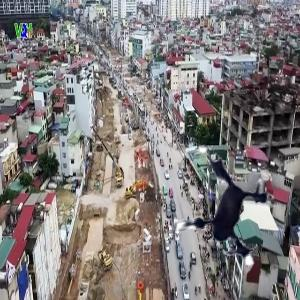drone: (140, 136, 294, 290)
